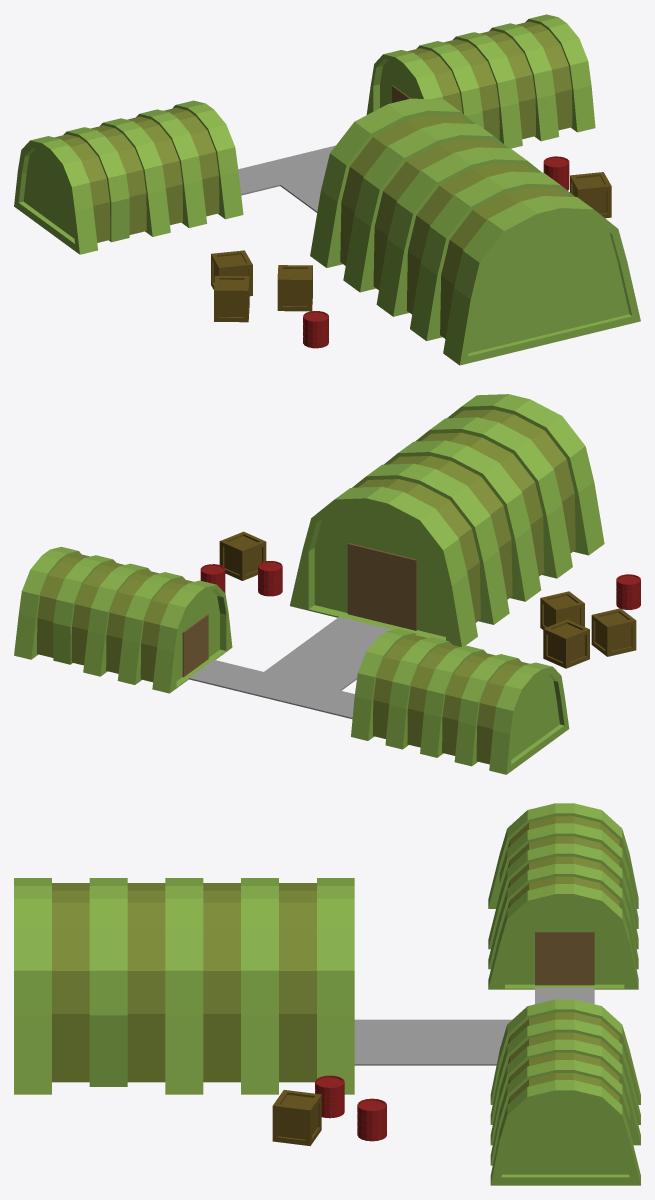
The model's file is barracks.fbx.
3 views of the same model, one above another, from view 1: azimuth 30°, elevation 25°; view 2: azimuth 150°, elevation 25°; view 3: azimuth 270°, elevation 25° (orthographic). The views are drawn at different scales.
Parts seen in each view (by area): view 1: Barracks; view 2: Barracks; view 3: Barracks.
Part boxes in pixels (x1=…): Barracks: x1=14, y1=14, x2=640, y2=365; Barracks: x1=14, y1=394, x2=640, y2=774; Barracks: x1=14, y1=803, x2=640, y2=1185.
Size of the model in its own units: 181 by 44.42 by 167.
